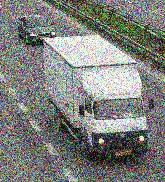car: (15, 14, 56, 46)
